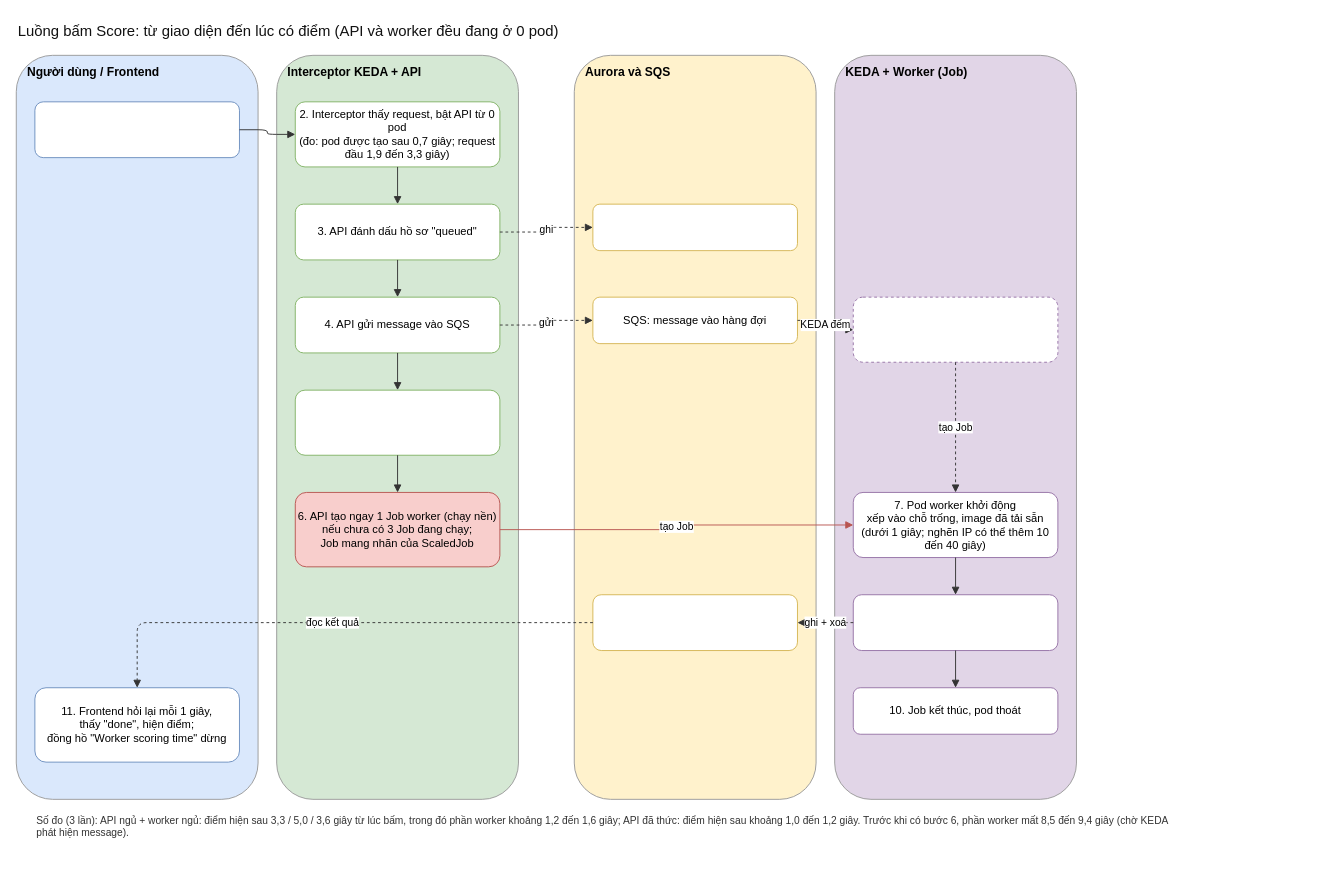
Image size: 1335x889. Some labels were removed from this diagram. The shapes that lost their labels are listed below. From the top down, each one's centre as x and y in pixels, then its label:
[136,129]: 1. Bấm Score đồng hồ "API" và "Worker" bắt đầu chạy
[694,227]: Aurora: screening_status = queued
[955,329]: KEDA (đường dự phòng): thấy hàng đợi có việc, tạo Job; không tạo trùng nhờ nhãn
[397,422]: 5. API trả 202 cho người dùng ngay (khung "API response time" dừng)
[694,622]: 9. Aurora: score, done; SQS: xoá message
[955,622]: 8. Nhận tối đa 10 message, chấm điểm
